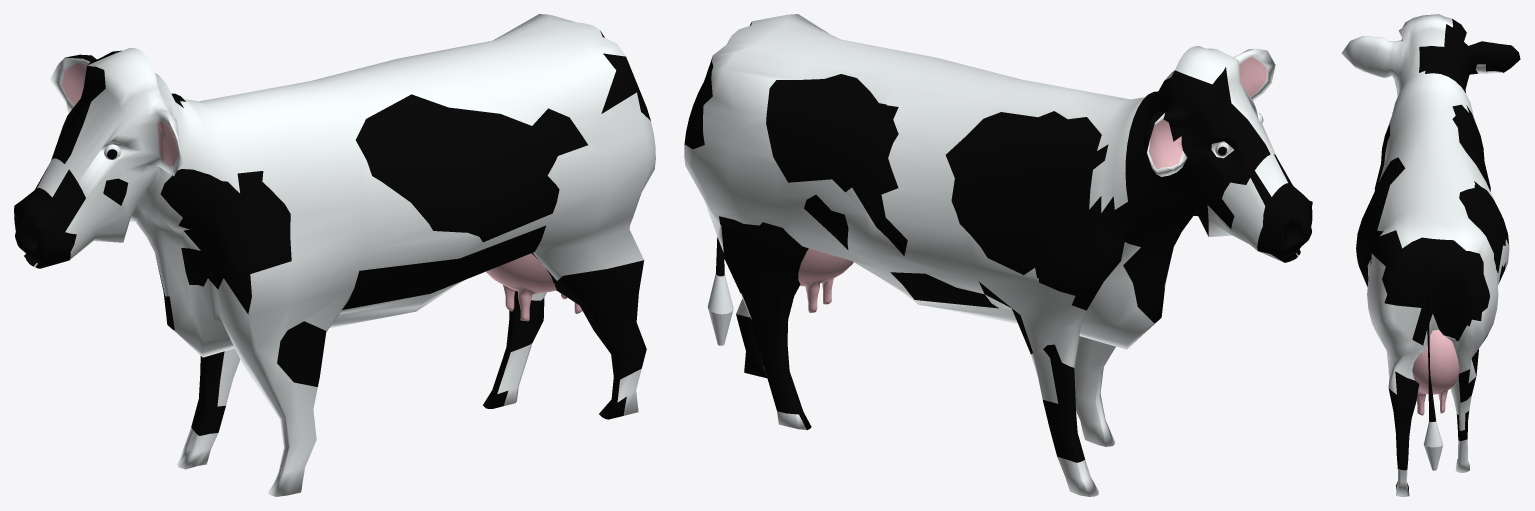
Rendered from koe.fbx.
3 renders of one model, left to right at view 1: azimuth 30°, elevation 25°; view 2: azimuth 150°, elevation 25°; view 3: azimuth 270°, elevation 25°, orthographic. The views are drawn at different scales.
Parts seen in each view (by area): view 1: Cylinder, Sphere; view 2: Cylinder, Sphere, Cylinder.001; view 3: Cylinder, Sphere, Cylinder.001.
Part boxes in pixels (<box>): Cylinder: <box>14,14,655,496</box>; Sphere: <box>486,253,582,321</box>; Cylinder: <box>684,14,1312,496</box>; Sphere: <box>798,248,853,312</box>; Cylinder.001: <box>707,237,733,345</box>; Cylinder: <box>1341,14,1520,496</box>; Sphere: <box>1412,329,1459,415</box>; Cylinder.001: <box>1423,286,1443,470</box>.
Size of the model in its own units: 457 by 330 by 168.
